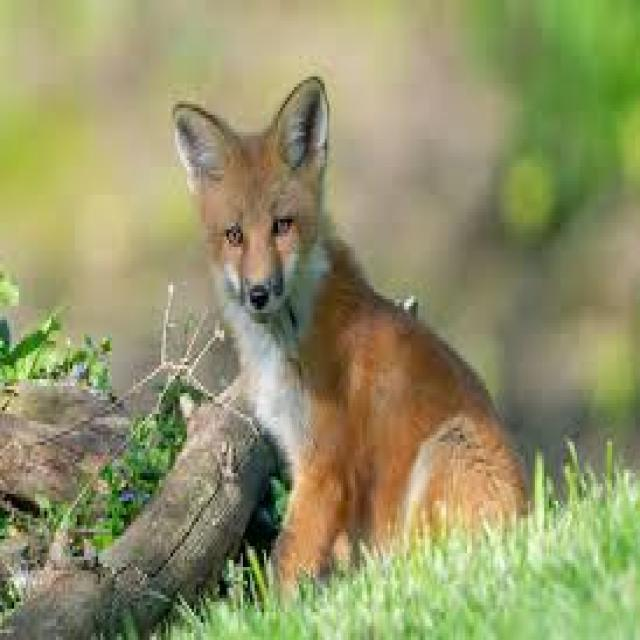Animal: (143, 58, 578, 600)
Forest: (2, 0, 640, 640)
